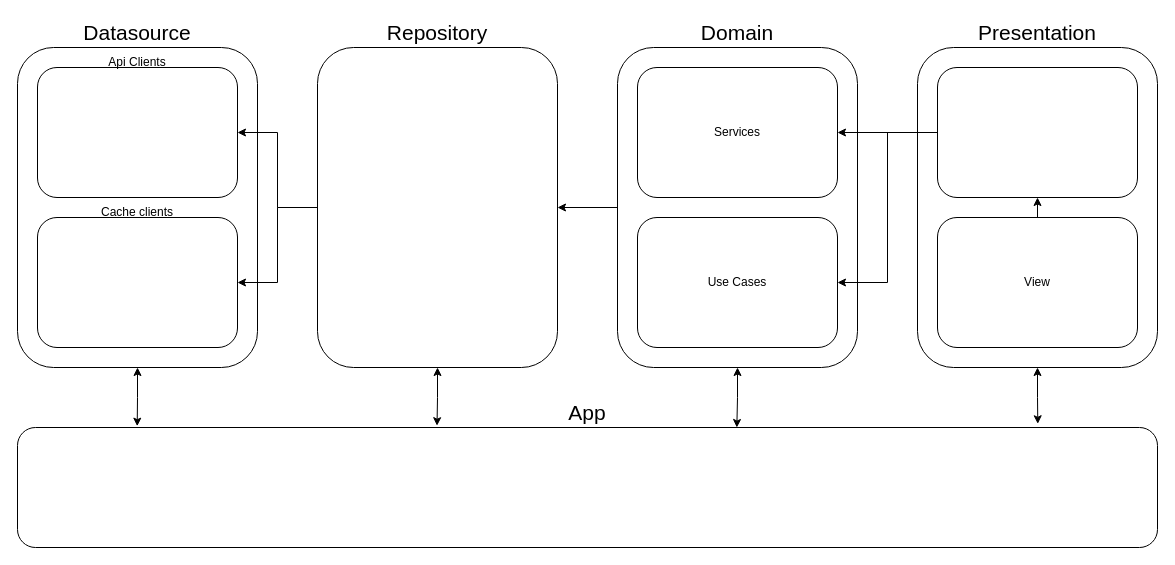
This 1175x565 diagram has some shape labels left out. The centre of each missing label's shape, as x and y in pixels:
"Contains DI, Storage setup, Constants,Utils etc." belongs at (587,487).
"ViewModel" belongs at (1037,132).
